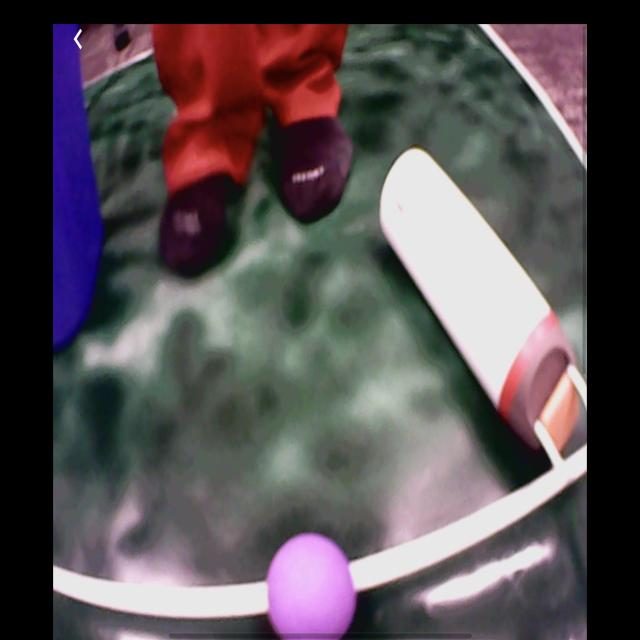ball: (268, 537, 359, 637)
